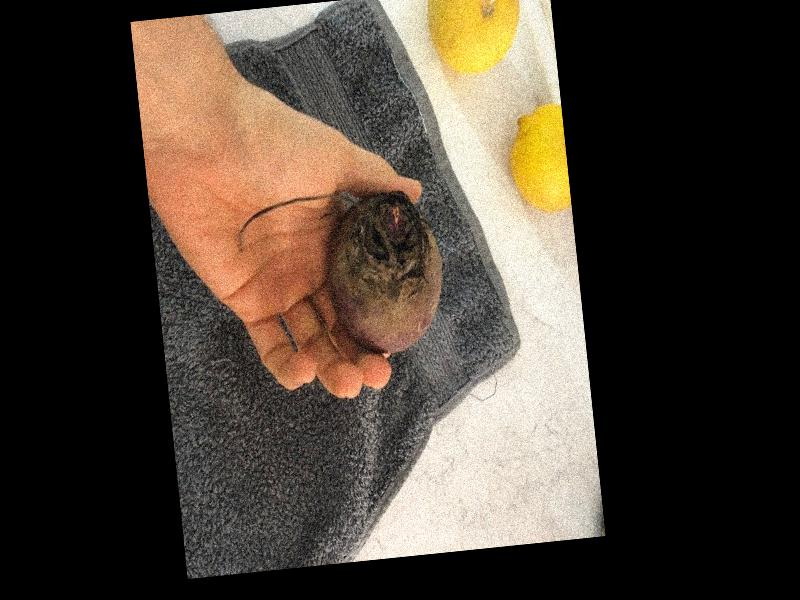Beet: (235, 188, 450, 369)
